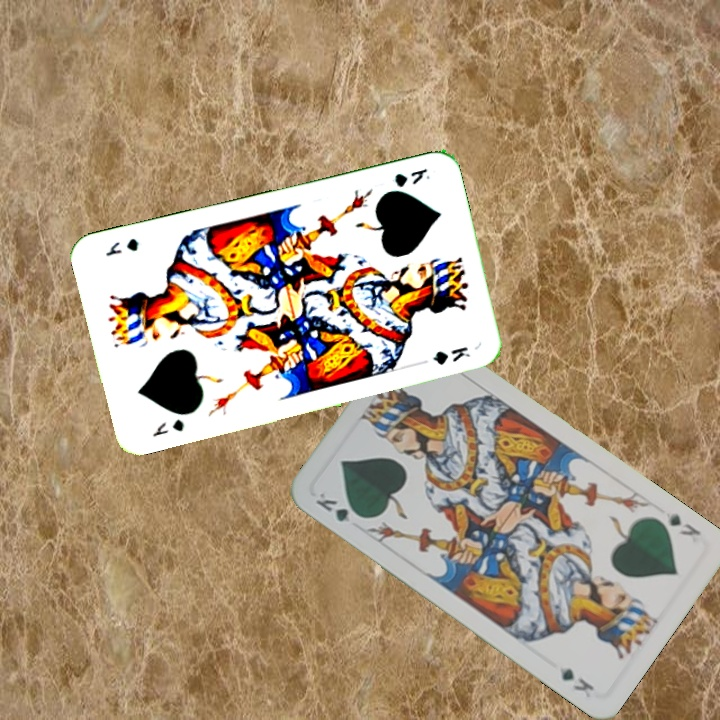GK: (311, 488, 367, 525), (661, 508, 704, 539), (390, 164, 432, 190), (148, 415, 187, 440)
